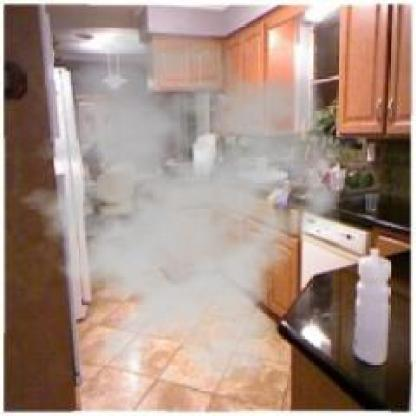Smoke: (2, 24, 364, 387)
